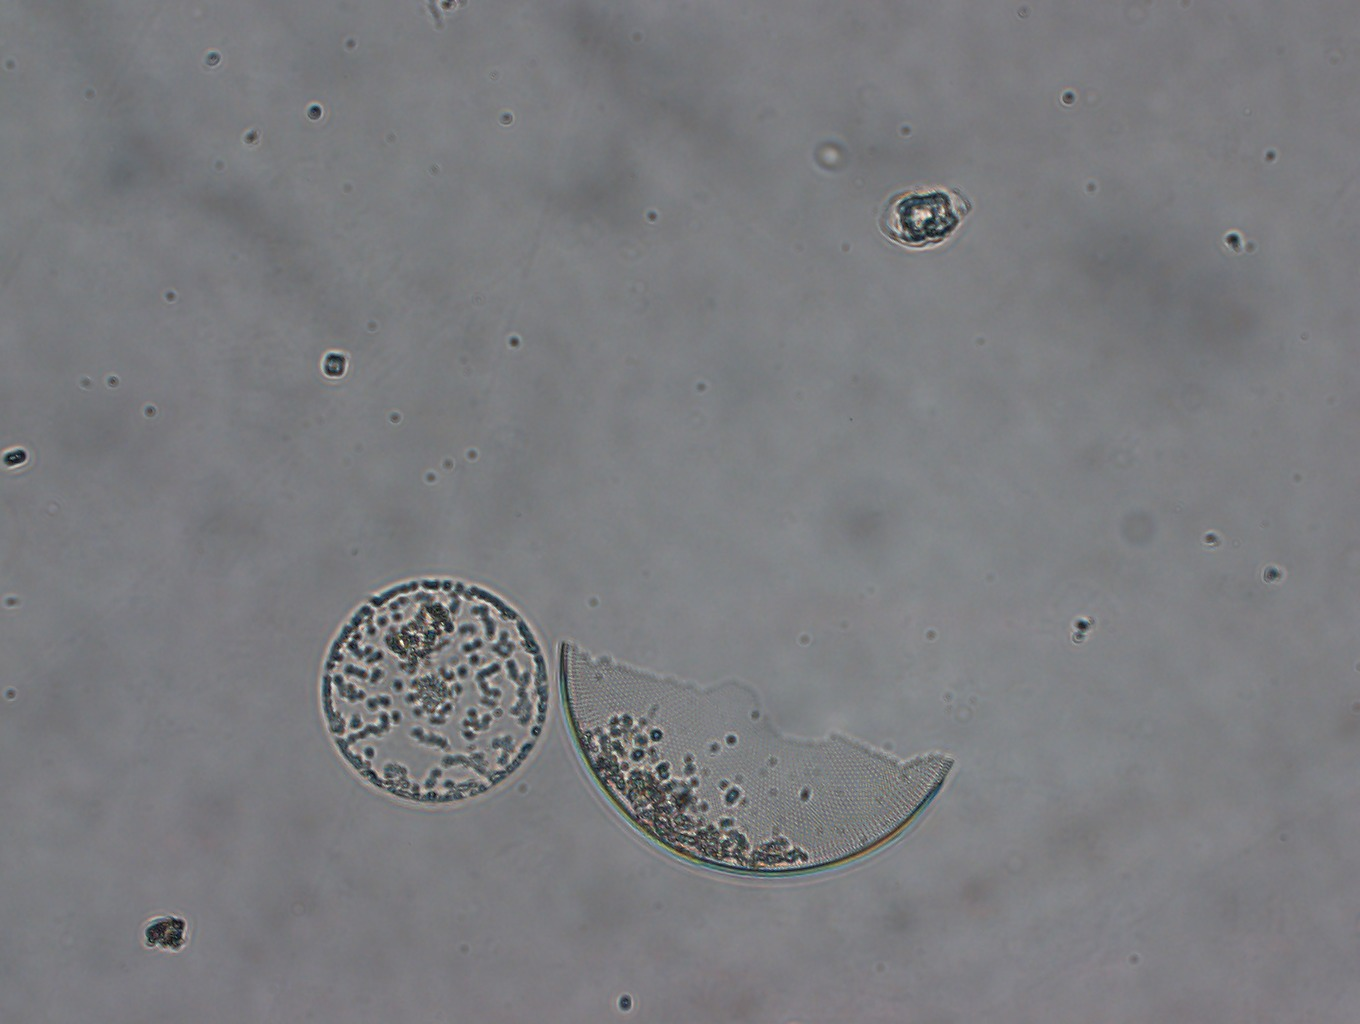coscinodiscus: (554, 642, 954, 878), (318, 573, 550, 805)
